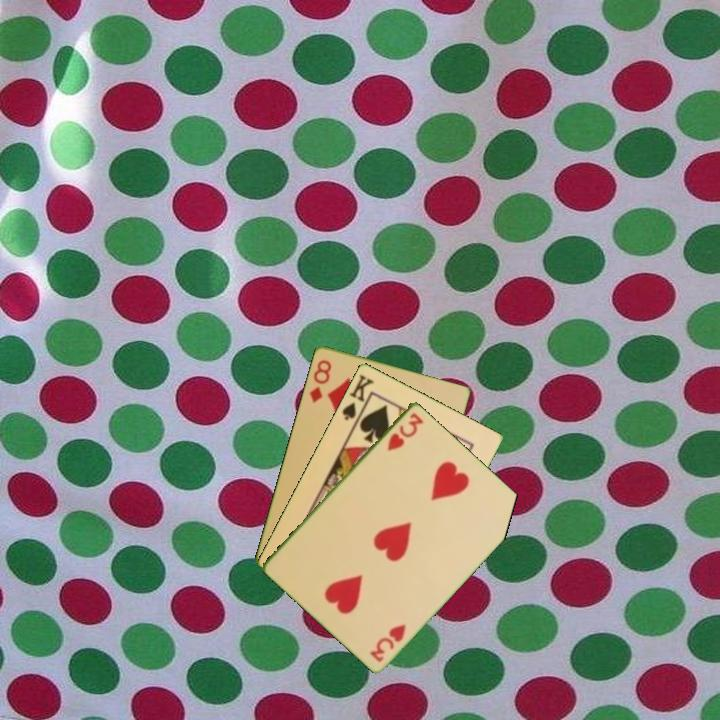3h: (383, 409, 427, 453), (366, 620, 409, 665)
8d: (306, 356, 334, 406)
Ks: (338, 370, 377, 423)
